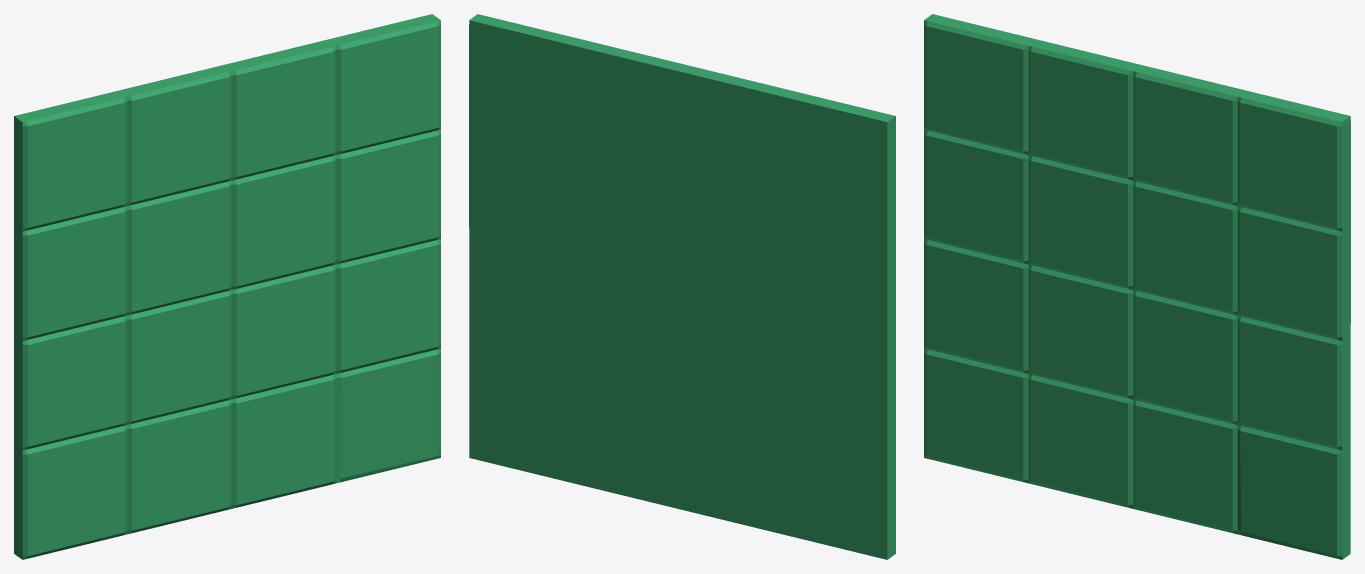
Rendered from floor1.fbx.
3 renders of one model, left to right at view 1: azimuth 30°, elevation 25°; view 2: azimuth 150°, elevation 25°; view 3: azimuth 330°, elevation 25°, orthographic.
Parts seen in each view (by area): view 1: floor; view 2: floor; view 3: floor.
Part boxes in pixels (box(x1,y1,x2,y2)): floor: box(14, 14, 440, 559); floor: box(469, 14, 895, 559); floor: box(924, 14, 1350, 559).
Bounding box in the file's own units: 20 × 20 × 0.8344.
